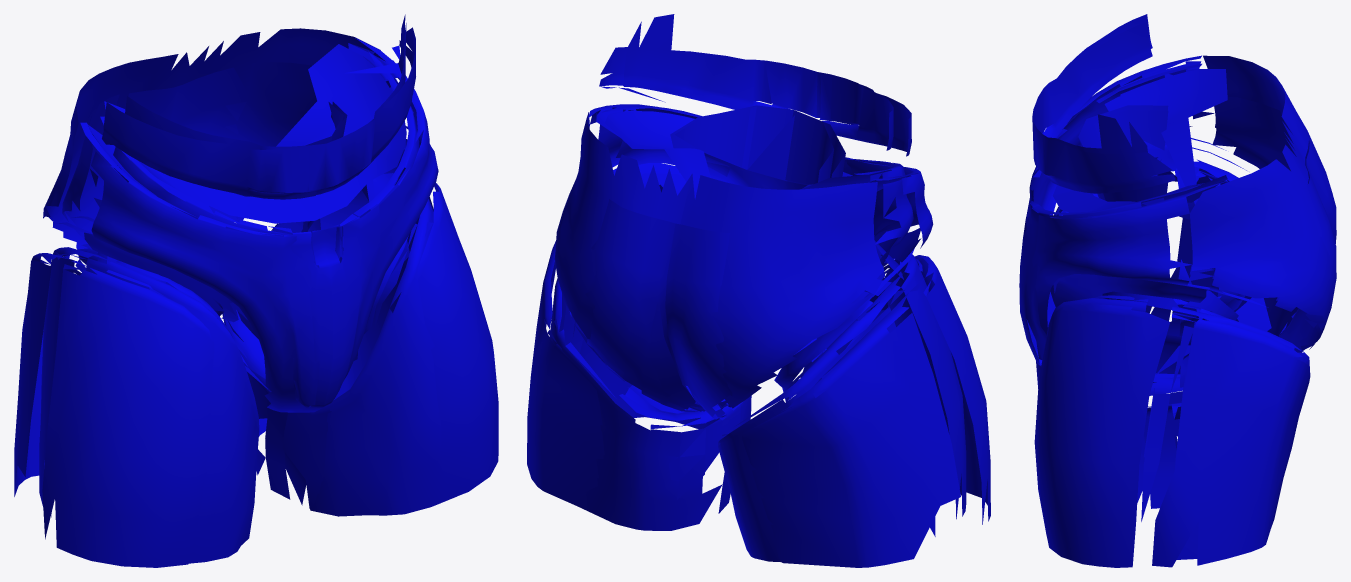
File: Pants_m.fbx
The picture shows the model from 3 angles, left to right: view 1: azimuth 30°, elevation 25°; view 2: azimuth 150°, elevation 25°; view 3: azimuth 270°, elevation 25°; orthographic projection. The views are drawn at different scales.
Visible parts, largest first — view 1: SK_Mannequin.002; view 2: SK_Mannequin.002; view 3: SK_Mannequin.002.
Boxes of the visible parts, left/top/right/bottom form: SK_Mannequin.002: left=14, top=14, right=498, bottom=567; SK_Mannequin.002: left=527, top=14, right=990, bottom=567; SK_Mannequin.002: left=1019, top=14, right=1336, bottom=567.
Size of the model in its own units: 4.28 by 4.3 by 2.85.
